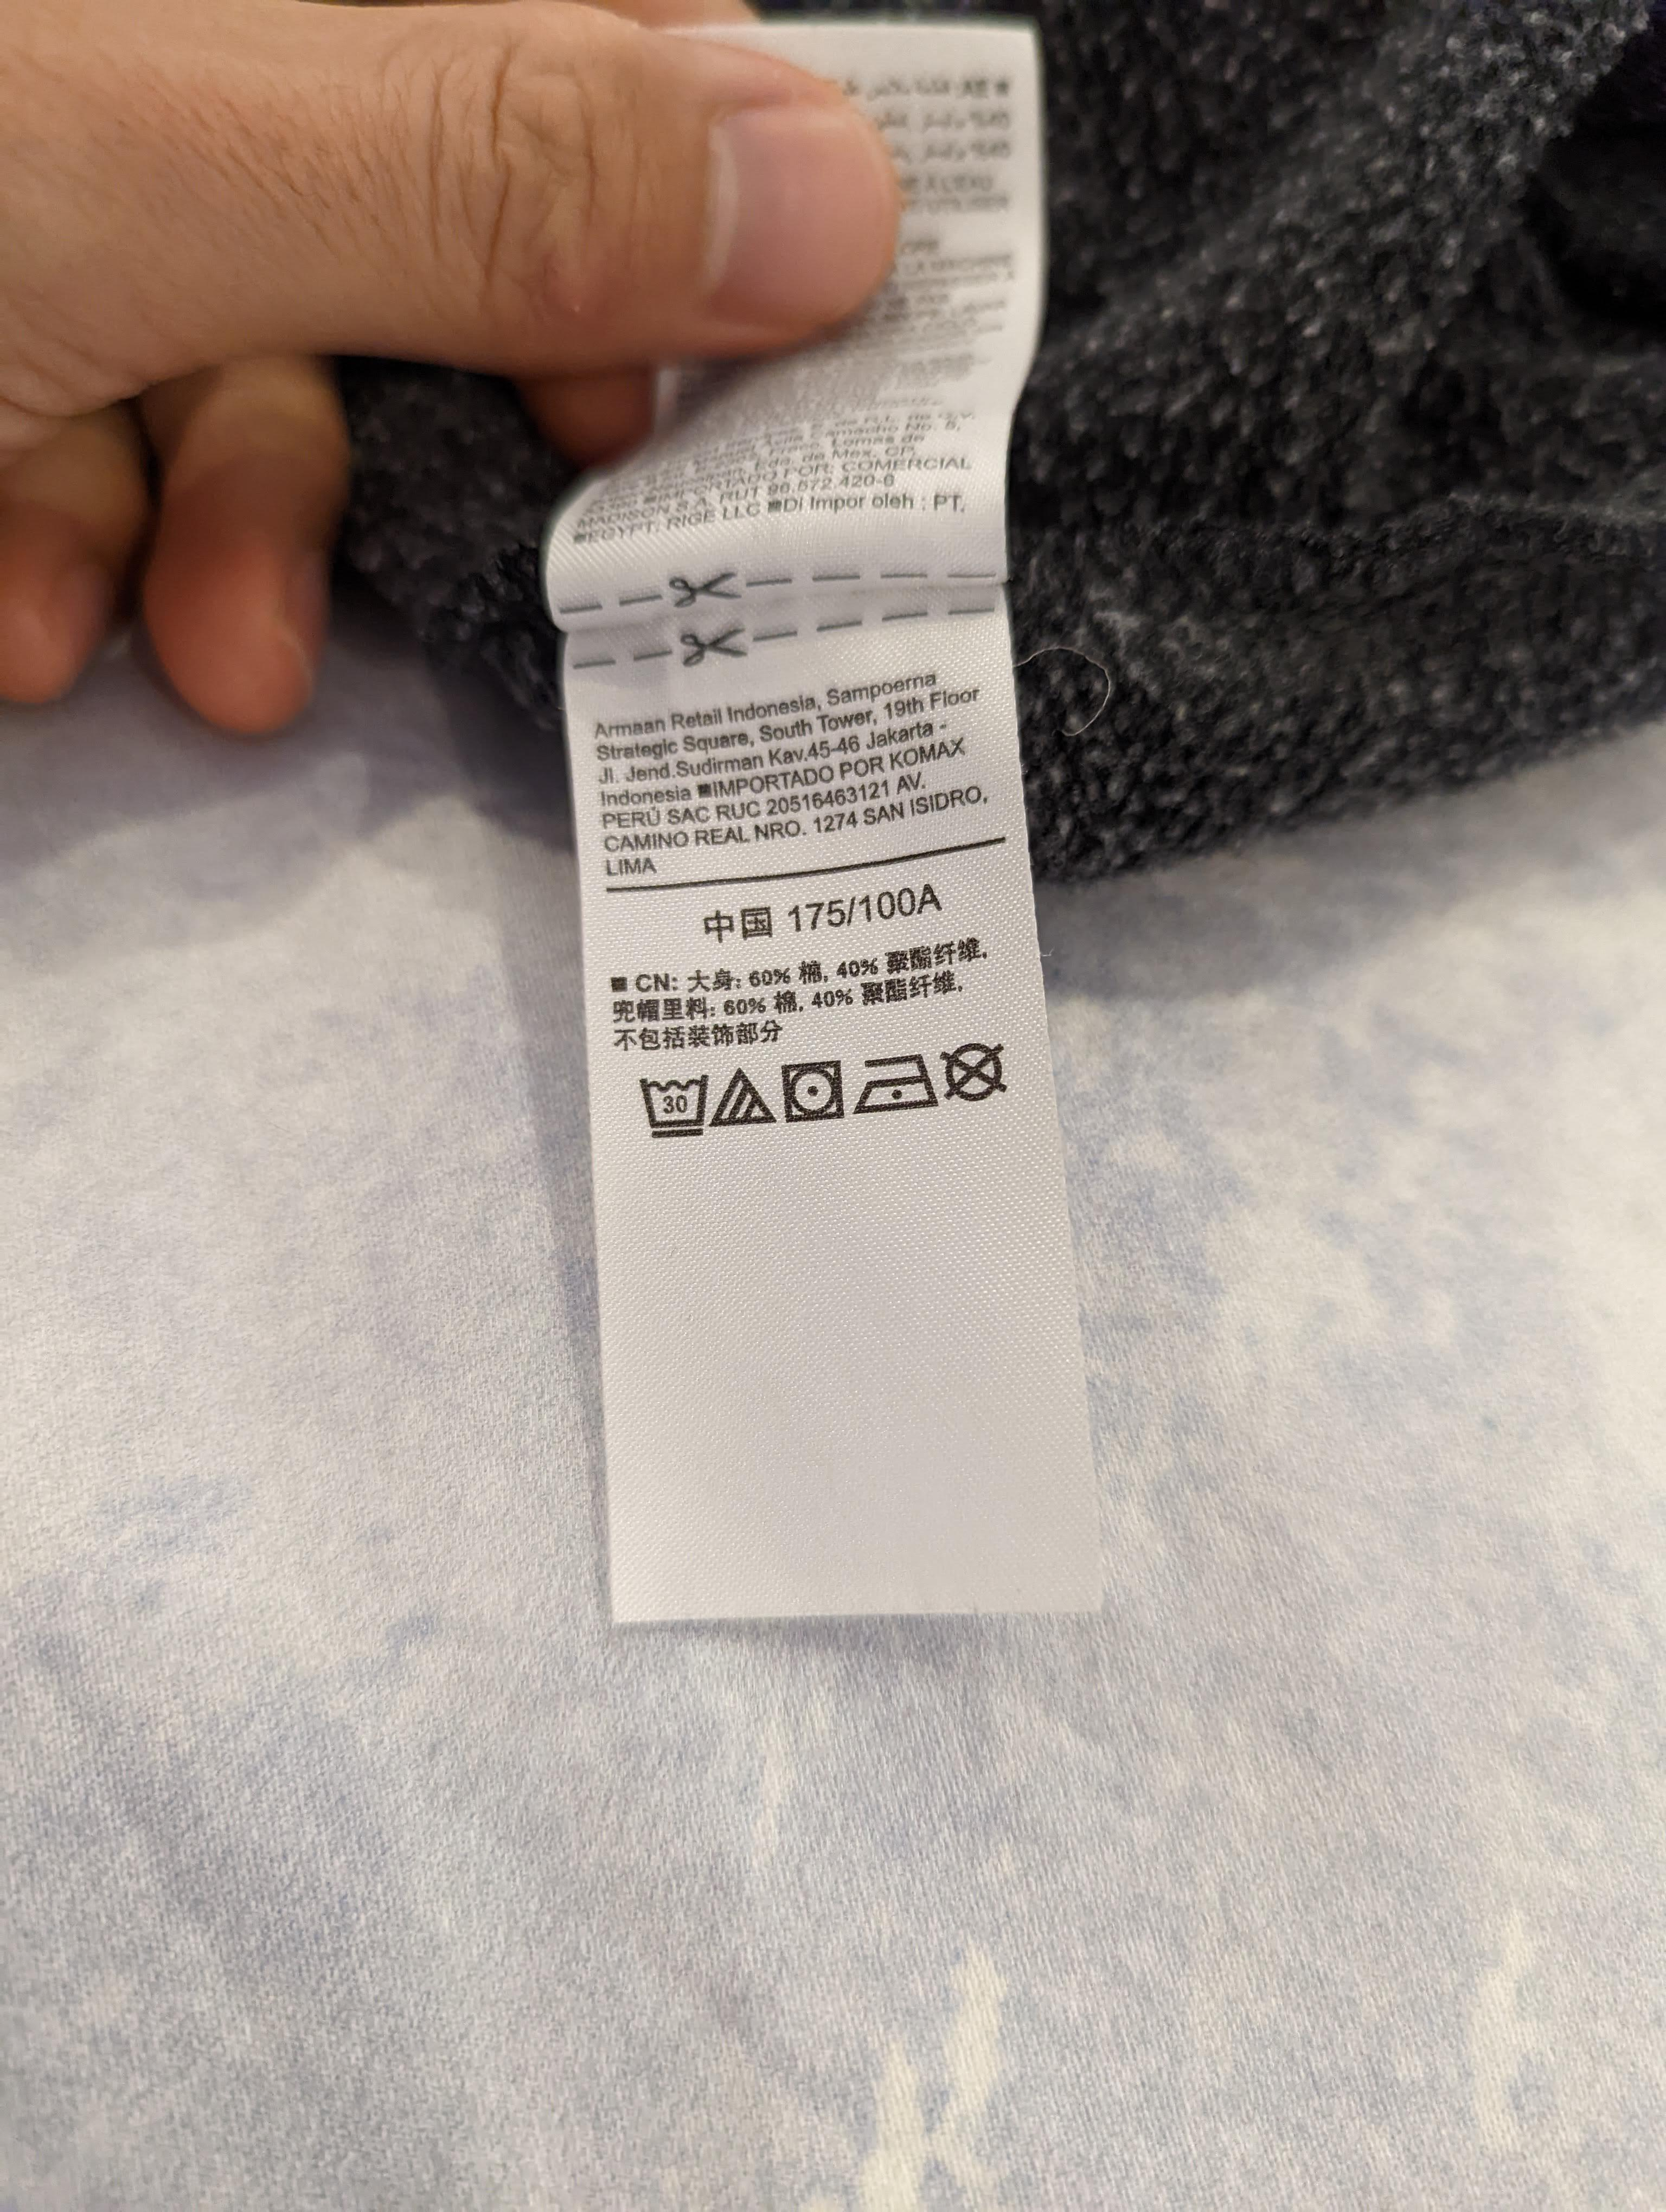30C: (644, 1063, 712, 1144)
DN_bleach: (709, 1068, 779, 1130)
DN_dry_clean: (941, 1040, 1008, 1107)
iron_low: (852, 1051, 940, 1123)
tumble_dry_low: (779, 1056, 849, 1126)
